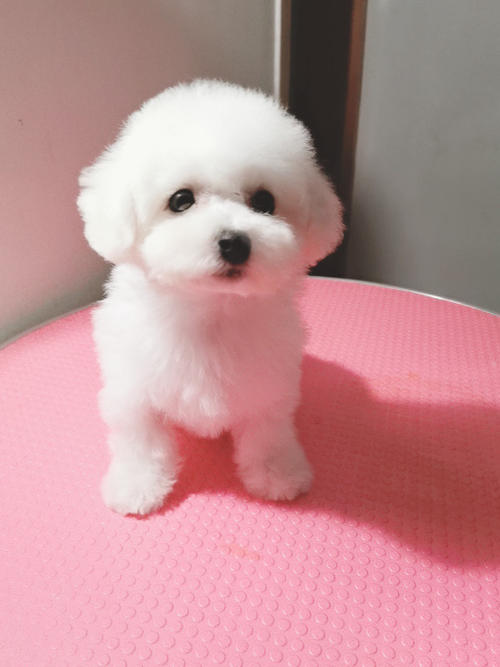dog: (60, 70, 388, 352)
